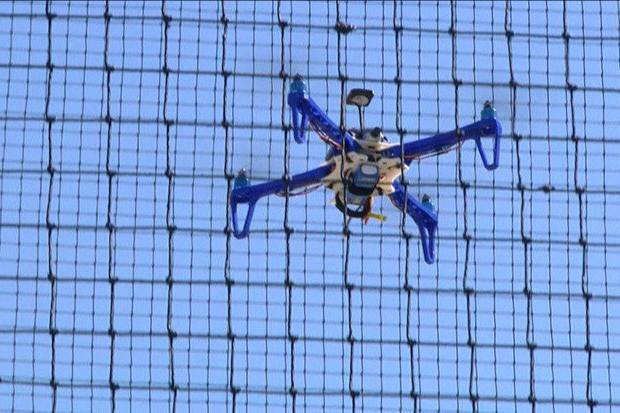drone: (199, 69, 507, 257)
